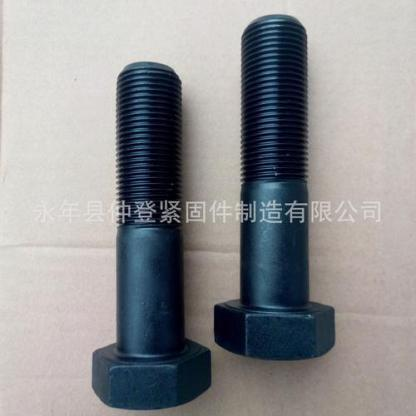FOD: (89, 54, 213, 412), (213, 12, 339, 364)
